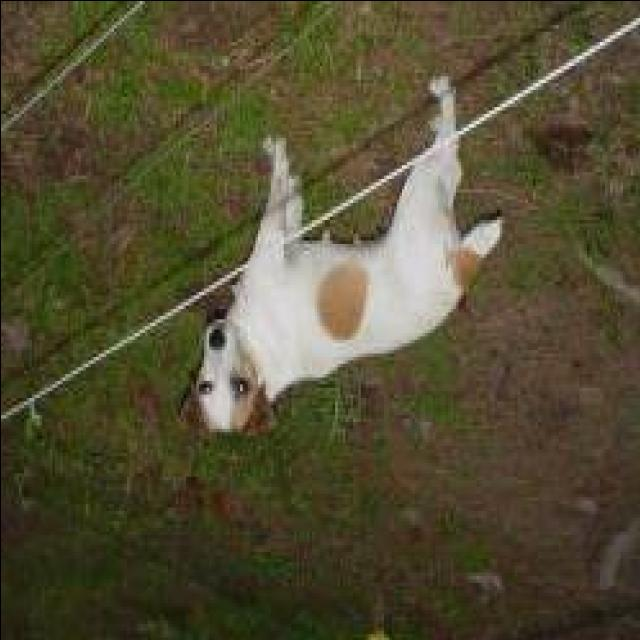dog: (166, 71, 506, 447)
